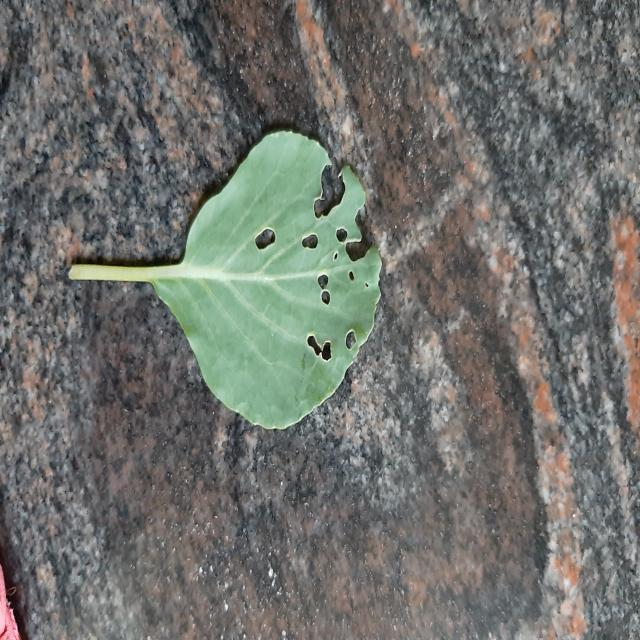Kohlrabi: (70, 131, 381, 429)
